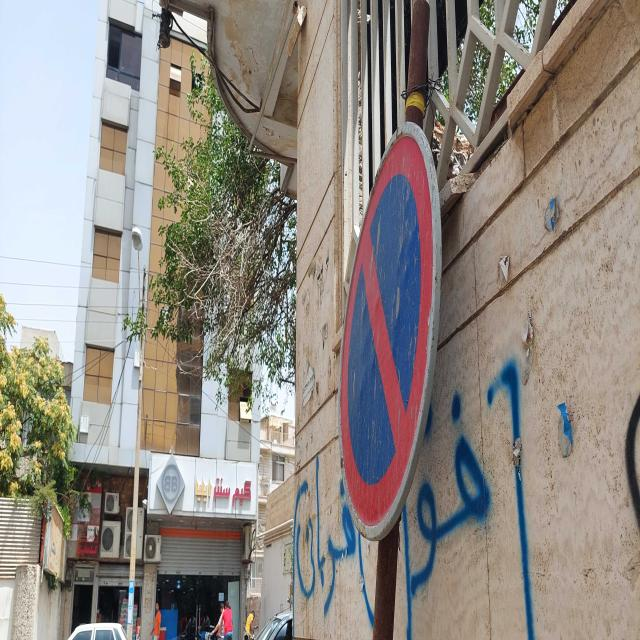forb_stopping: (340, 124, 442, 546)
